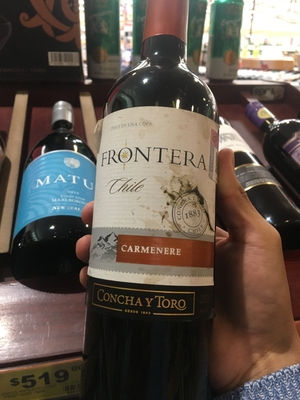frontera carmenere: (81, 11, 227, 394)
